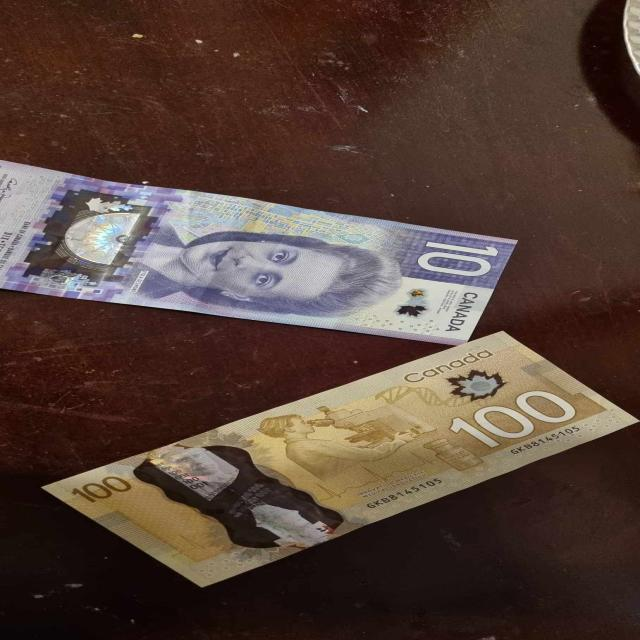10 cad: (1, 158, 517, 343)
100 cad: (55, 332, 640, 584)
